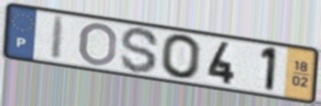1: (258, 46, 280, 95)
4: (205, 40, 238, 86)
I: (49, 14, 68, 63)
O: (160, 32, 204, 81), (76, 21, 119, 68)
S: (119, 25, 162, 75)
